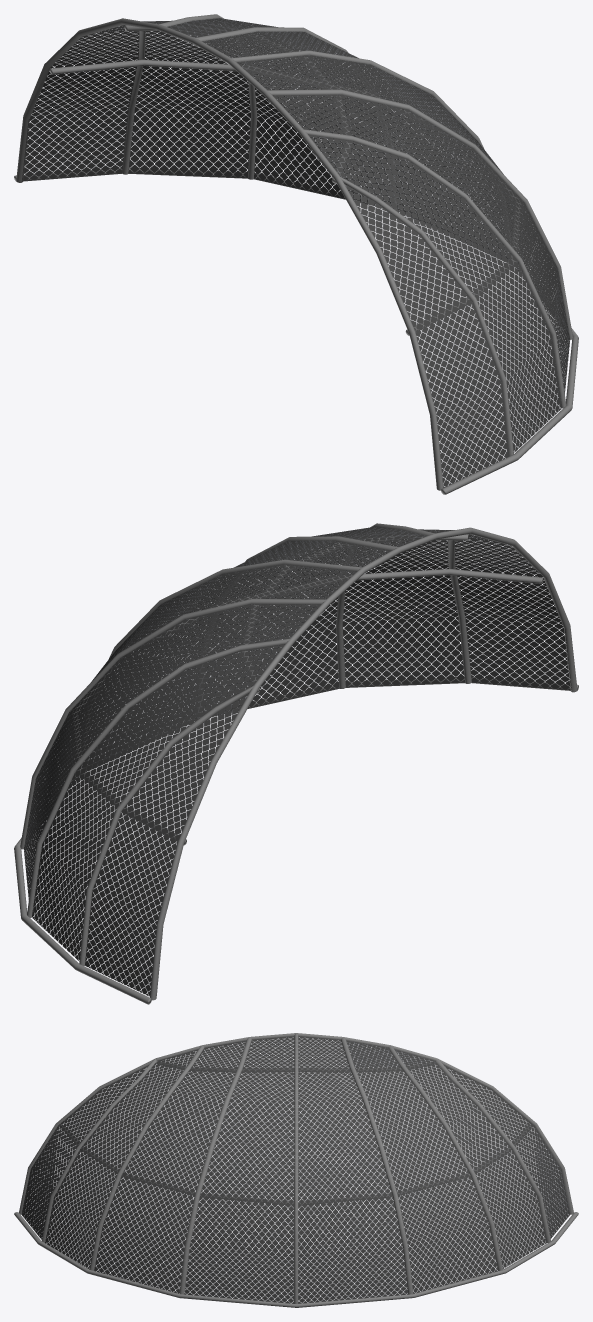
File: M_Amorossi__backstop_geo.fbx
The picture shows the model from 3 angles, top to bottom: view 1: azimuth 30°, elevation 25°; view 2: azimuth 150°, elevation 25°; view 3: azimuth 270°, elevation 25°; orthographic projection. The views are drawn at different scales.
Parts seen in each view (by area): view 1: backstop_geo; view 2: backstop_geo; view 3: backstop_geo.
Part boxes in pixels (x1,y1,x2,y2): backstop_geo: [14, 14, 578, 494]; backstop_geo: [14, 523, 578, 1004]; backstop_geo: [14, 1033, 578, 1307].
Bounding box in the file's own units: 402 × 365 × 1021.
